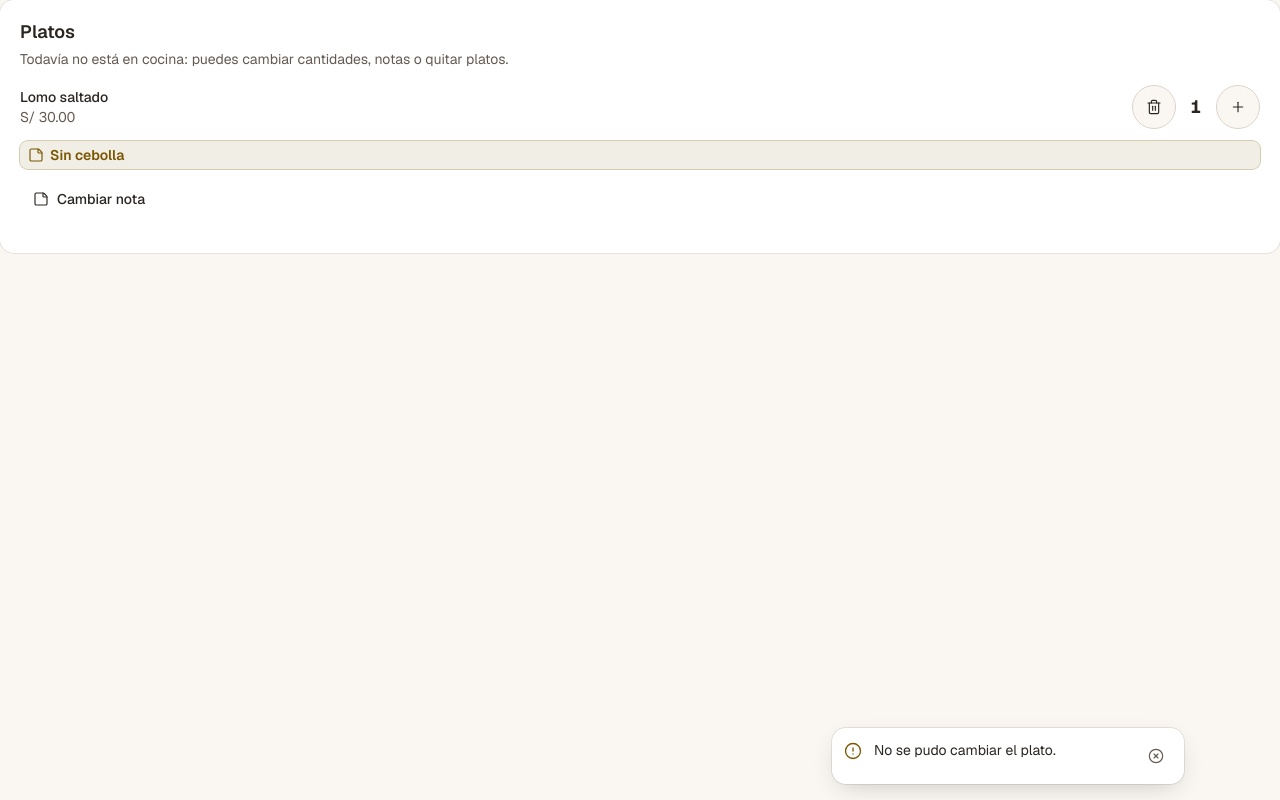
Test case: platos de un pedido abierto › si la cocina ya lo tiene, el servidor rechaza el cambio y se avisa
The width and height of the screenshot is (1280, 800).
Click the button named "Uno más de Lomo saltado" at (1238, 107), box [1216,85,1260,129]
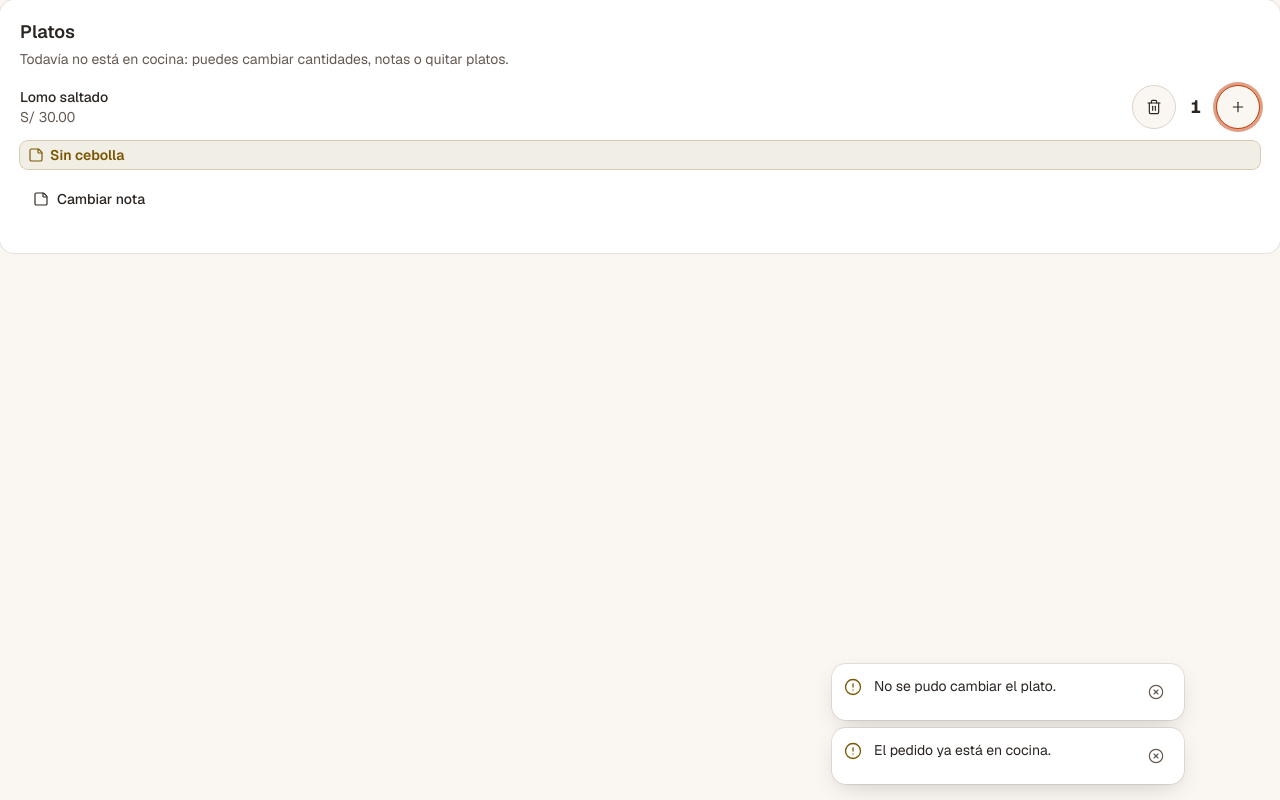
Result: the text "El pedido ya está en cocina." is shown at [874,741,1051,759]
